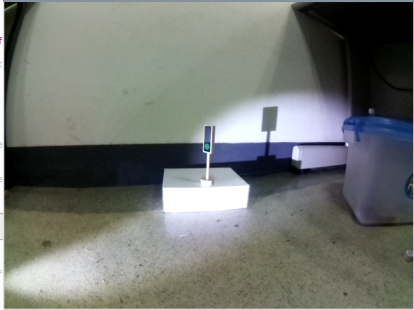Green: (200, 123, 216, 155)
